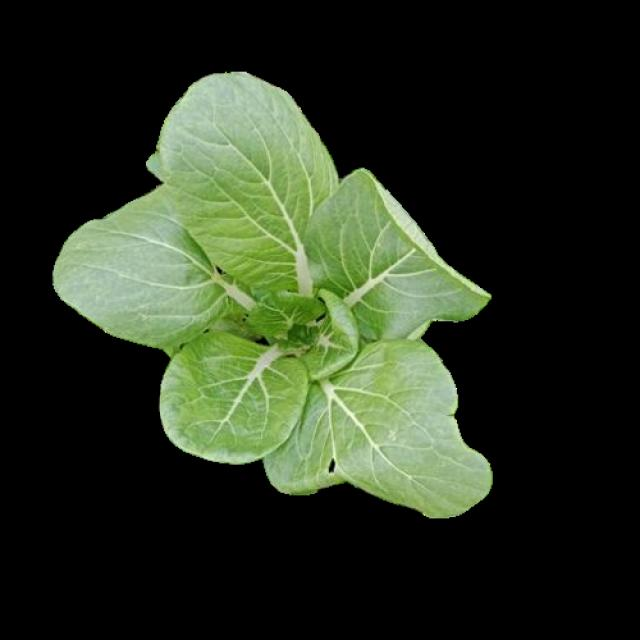mature: (54, 77, 493, 514)
unhealthy: (263, 337, 492, 516)
